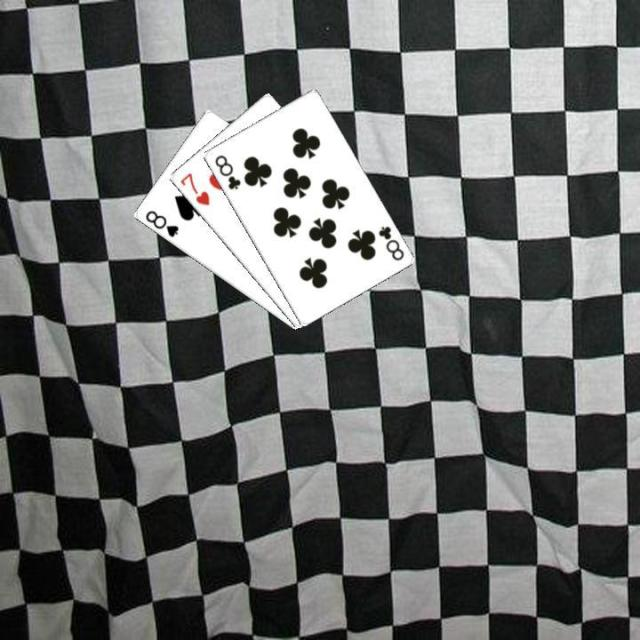7H: (176, 169, 212, 207)
8C: (210, 151, 242, 191), (374, 222, 406, 262)
8S: (140, 206, 180, 239)
